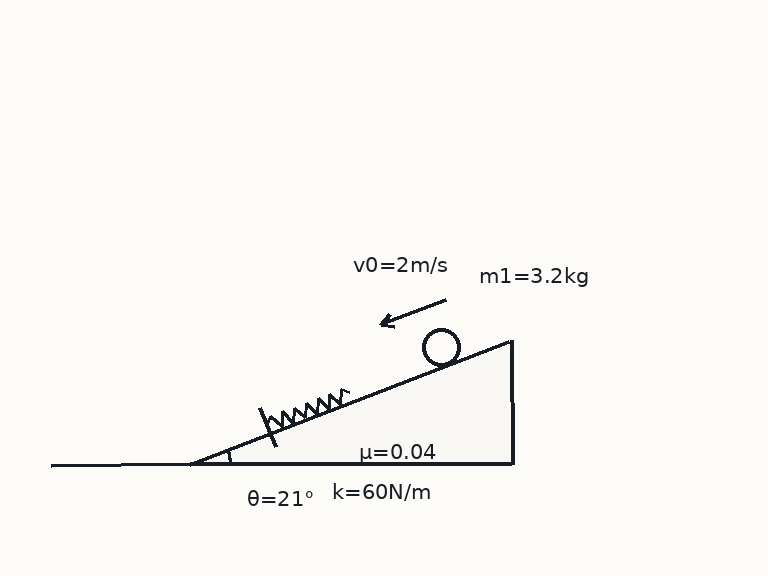ball: (420, 326, 462, 368)
ramp: (188, 339, 512, 466)
spring: (265, 387, 352, 429)
